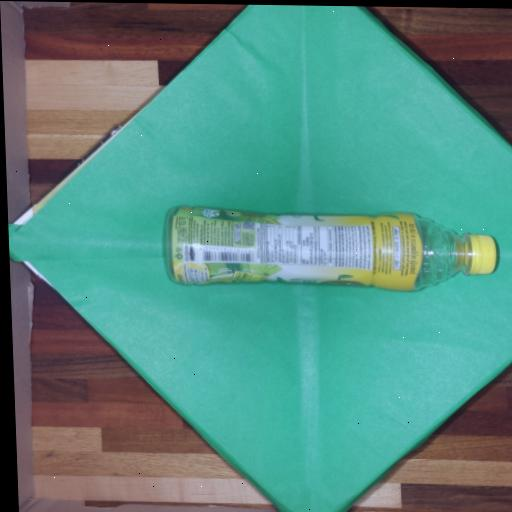bottle: (160, 202, 498, 295)
